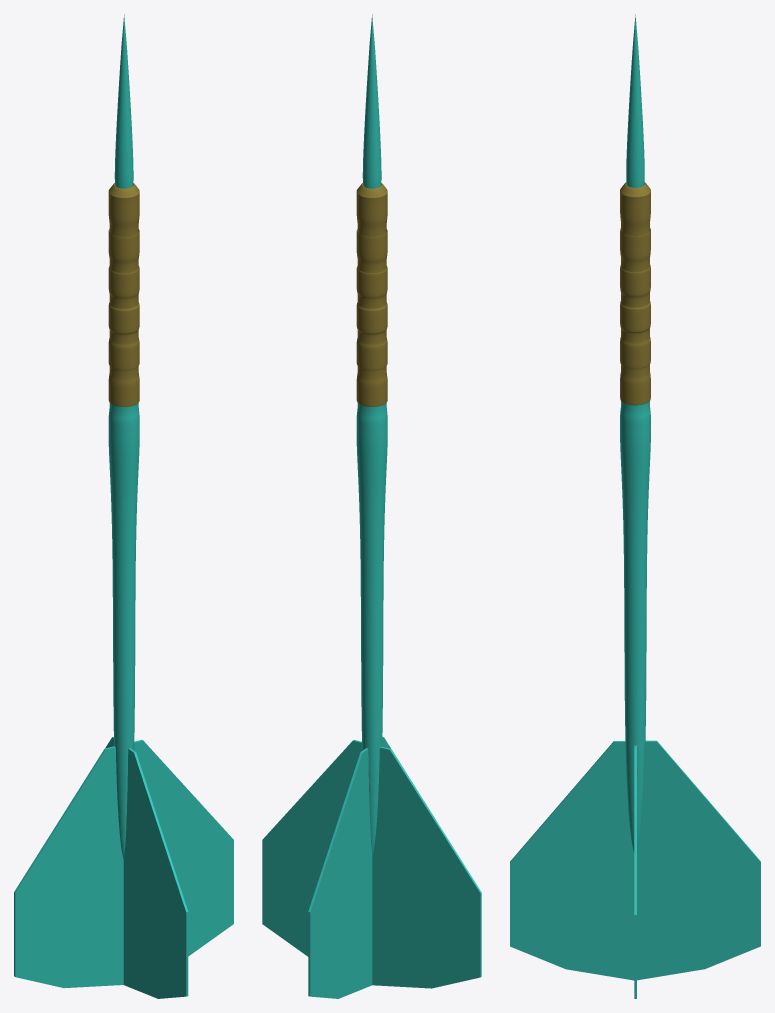
Rendered from Dart_türkis.fbx.
3 views of the same model, side by side, from view 1: azimuth 30°, elevation 25°; view 2: azimuth 150°, elevation 25°; view 3: azimuth 270°, elevation 25° (orthographic).
Parts seen in each view (by area): view 1: body; view 2: body; view 3: body.
Part boxes in pixels (bbox=[...]): body: bbox=[14, 14, 233, 998]; body: bbox=[262, 14, 481, 998]; body: bbox=[510, 14, 760, 998].
Bounding box in the file's own units: 28.45 × 121 × 28.45.
